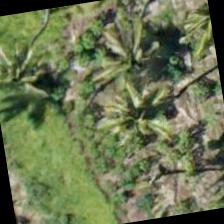Kelapa_Sawit: (78, 9, 182, 112), (158, 0, 217, 70)
